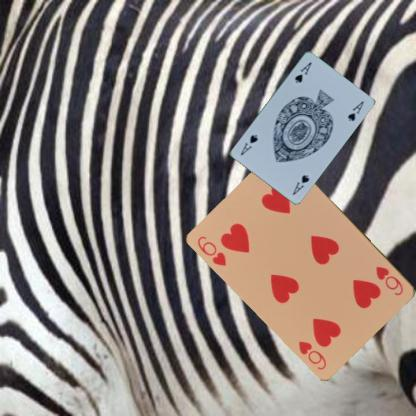6h: (195, 234, 228, 268), (373, 263, 405, 297)
As: (292, 59, 312, 84), (290, 172, 310, 196)
